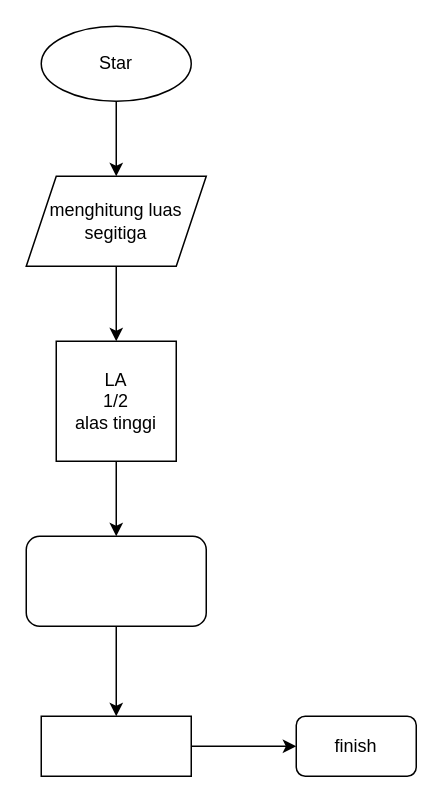
The diagram is 443 pixels wide and 803 high, and some of its shapes have lost their labels. Here are the shapes that lost their labels. From the top down, the centre of each, then its label:
At point (115, 580): "LA-1/2 kali alas kali tinggi".
At point (115, 745): "luas segitiga".
